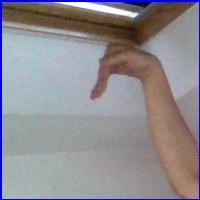del: (88, 33, 163, 105)
